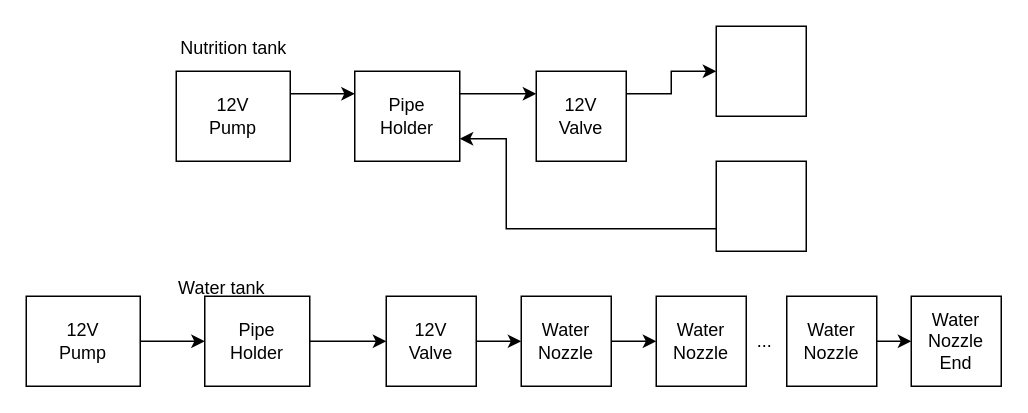
Some shapes in this 1028 by 413 pixel diagram are drawn without their labels. The shapes that lost their labels are listed below. From the top down, each one's centre as x and y in pixels, then its label:
the point at 760,70: Funnel's Center intlet
the point at 760,205: Funnel's Side intlet
